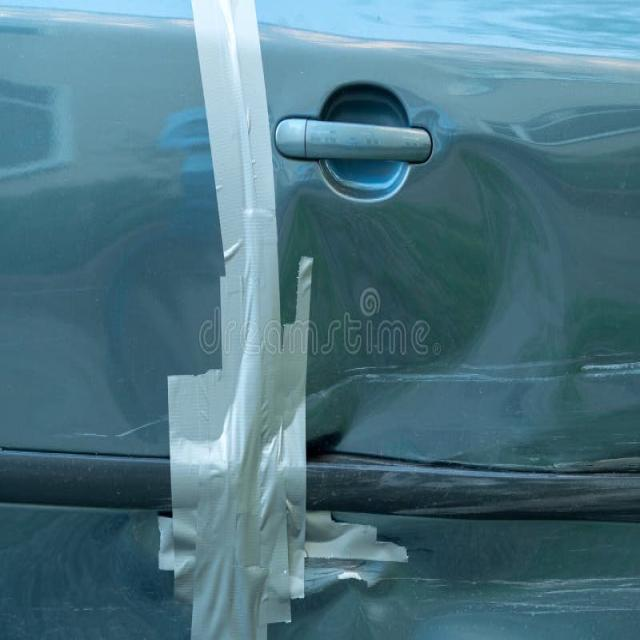dent: (226, 109, 585, 640)
scratch: (295, 344, 640, 517), (280, 561, 640, 625), (66, 412, 175, 438)
